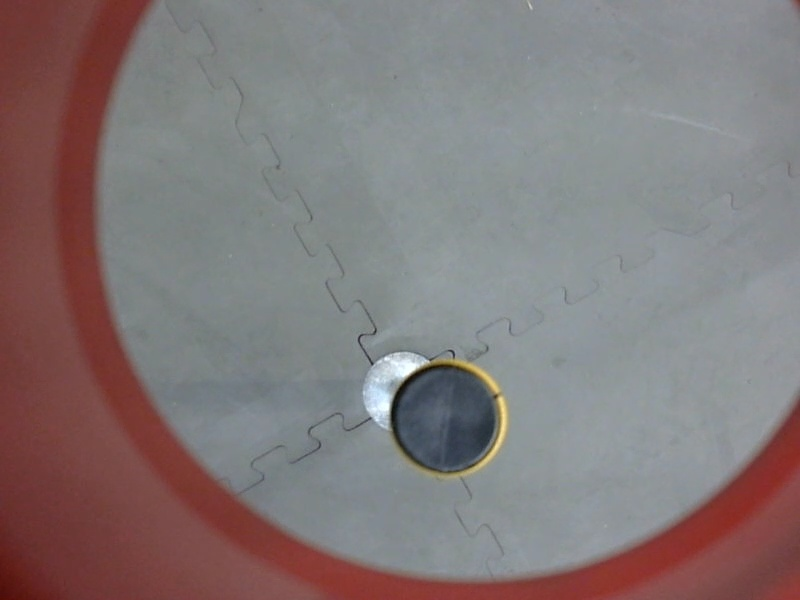tip: (382, 356, 516, 487)
